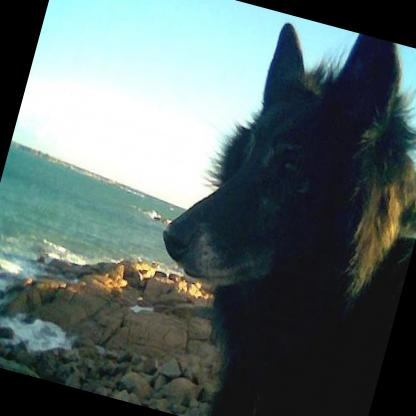groenendael: (117, 0, 416, 416)
